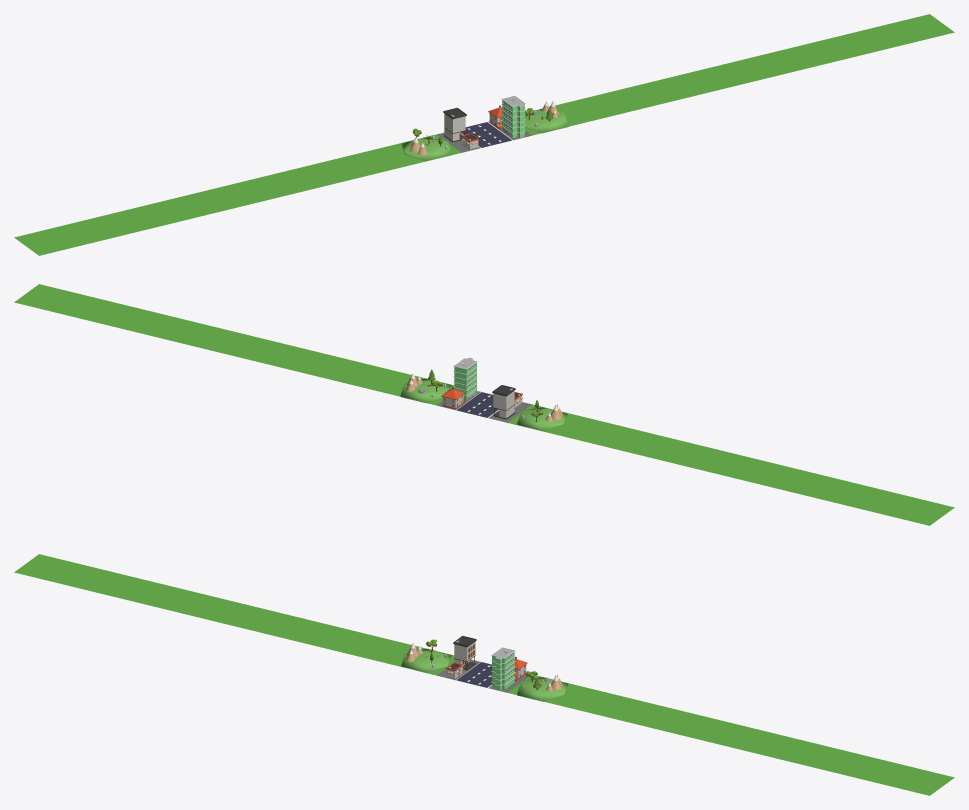
The model's file is naseljev4.glb.
3 views of the same model, one above another, from view 1: azimuth 30°, elevation 25°; view 2: azimuth 150°, elevation 25°; view 3: azimuth 330°, elevation 25° (orthographic).
Parts seen in each view (by area): view 1: Plane.004, Plane.003, apartments1.002_Plane.008, Object_8.002, Box002, Object_8.001; view 2: Plane.004, Plane.003, apartments1.002_Plane.008, Object_8.002, Object_8.001, Box002; view 3: Plane.003, Plane.004, apartments1.002_Plane.008, Plane.008, Object_8.001, Object_8.002, Box002.
Boxes of the visible parts, x1,y1,x2,y2 form: Plane.004: (14, 134, 461, 255); Plane.003: (525, 14, 954, 135); apartments1.002_Plane.008: (501, 95, 525, 137); Object_8.002: (401, 137, 451, 160); Box002: (459, 122, 512, 147); Object_8.001: (525, 109, 568, 133); Plane.004: (507, 404, 954, 525); Plane.003: (14, 284, 454, 405); apartments1.002_Plane.008: (453, 357, 477, 400); Object_8.002: (517, 407, 567, 430); Object_8.001: (400, 378, 451, 403); Box002: (456, 392, 499, 417); Plane.003: (507, 675, 954, 795); Plane.004: (14, 554, 454, 675); apartments1.002_Plane.008: (491, 647, 515, 690); Plane.008: (360, 639, 422, 667); Object_8.001: (517, 677, 568, 701); Object_8.002: (401, 649, 451, 672); Box002: (456, 662, 491, 687).
Size of the model in its own units: 1307 by 50.89 by 62.2.
19 materials, 5 textured.
